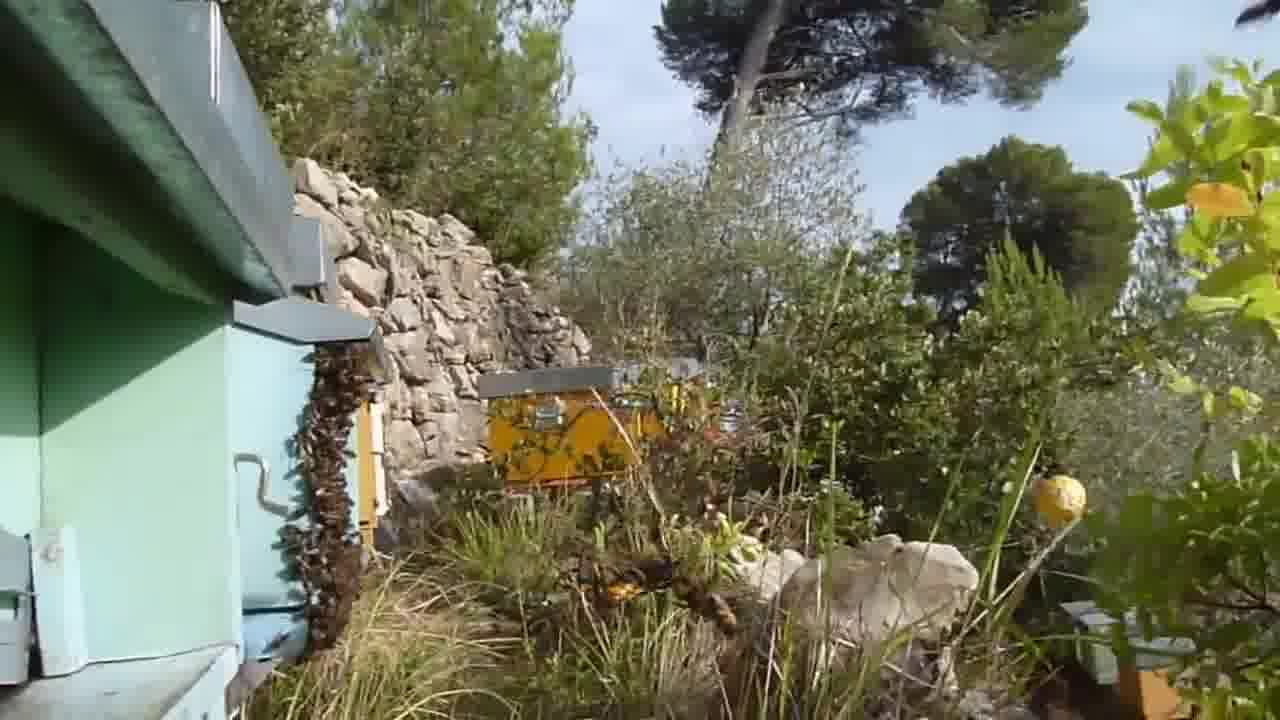bee: (278, 509, 365, 583), (309, 341, 375, 426), (287, 429, 359, 502), (289, 583, 356, 652)
hornet: (586, 548, 679, 614)
